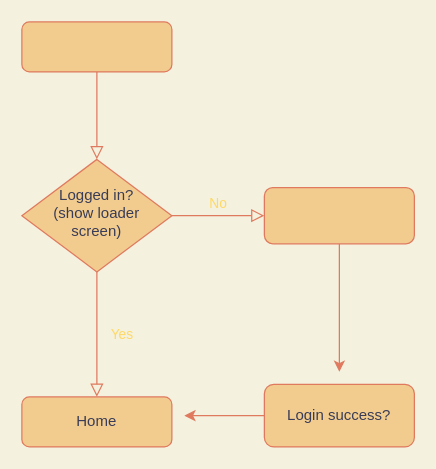
Some shapes in this 436 by 469 pixel diagram are drawn without their labels. The shapes that lost their labels are listed below. From the top down, each one's centre as x and y in pixels, then its label:
At pixel 96 46: "Load the app".
At pixel 338 215: "Redirect to Login screen".
